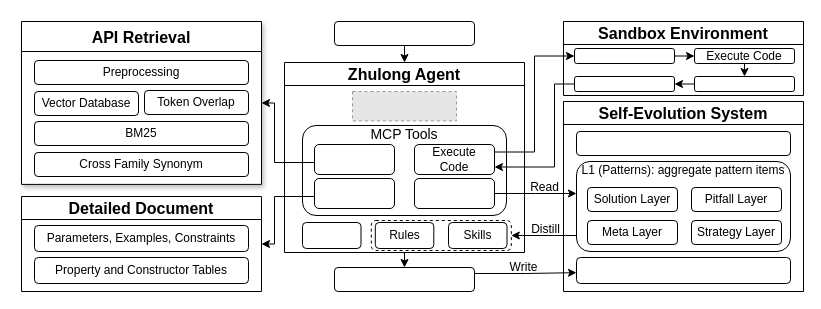
Some shapes in this 821 by 309 pixel diagram are drawn without their labels. Grey dashed boxes stand in for pictures. The centre of each missing label's shape, as x and y in pixels:
"Error & Print Log" belongs at pixel 624 84.
"L0 (Raw): per task trace and feedback" belongs at pixel 683 270.
"L2 (Evolution): memory version control" belongs at pixel 683 143.
"Read Document" belongs at pixel 354 193.
"Recall Memory" belongs at pixel 454 193.
"Reset Workdir" belongs at pixel 624 56.
"Search API" belongs at pixel 354 159.
"Tools" belongs at pixel 331 235.
"User Instruction" belongs at pixel 404 33.
"Validate Syntax" belongs at pixel 744 84.
"Verification & Evaluation" belongs at pixel 404 279.
